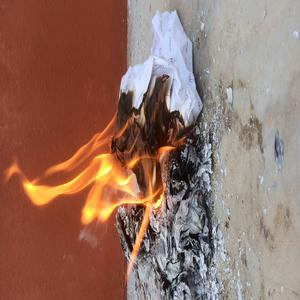fire: (3, 118, 167, 216)
